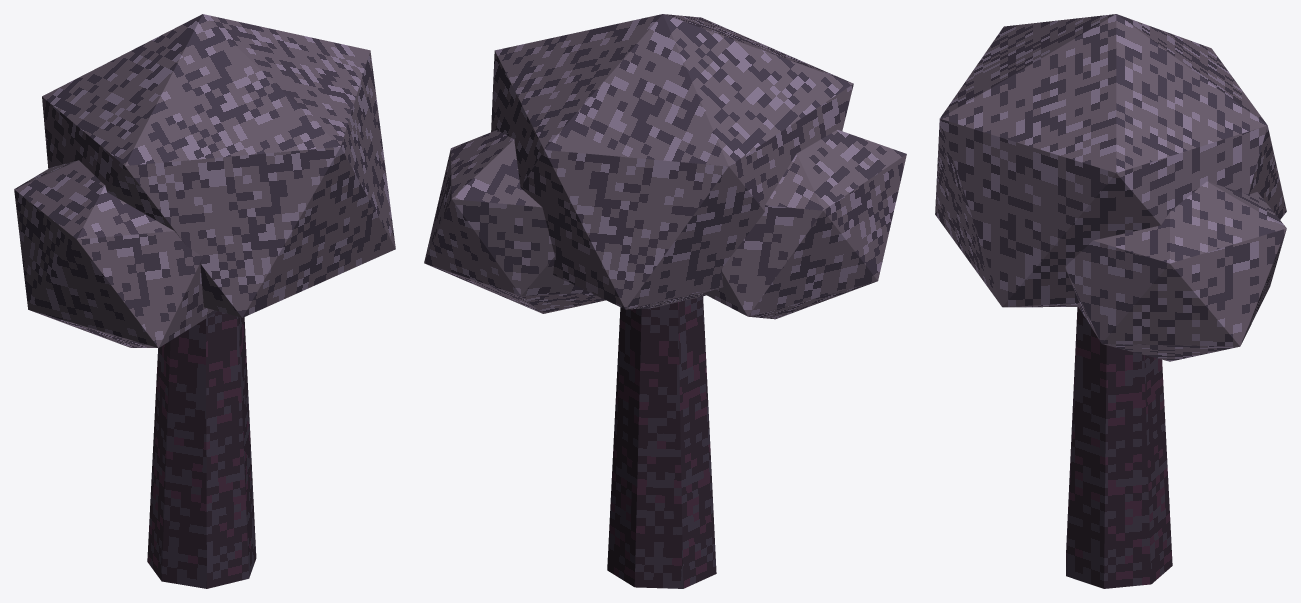
The model's file is a73_arvore_negra_com_corvos.glb.
The picture shows the model from 3 angles, left to right: view 1: azimuth 30°, elevation 25°; view 2: azimuth 150°, elevation 25°; view 3: azimuth 270°, elevation 25°; orthographic projection.
Parts seen in each view (by area): view 1: a73_arvore_negra_com_corvos; view 2: a73_arvore_negra_com_corvos; view 3: a73_arvore_negra_com_corvos.
Boxes of the visible parts, x1=… form: a73_arvore_negra_com_corvos: x1=14, y1=14, x2=395, y2=588; a73_arvore_negra_com_corvos: x1=424, y1=14, x2=906, y2=588; a73_arvore_negra_com_corvos: x1=935, y1=14, x2=1286, y2=588.
Bounding box in the file's own units: 3.28 × 4.55 × 2.63.
Materials: 2 (2 with a texture image).
